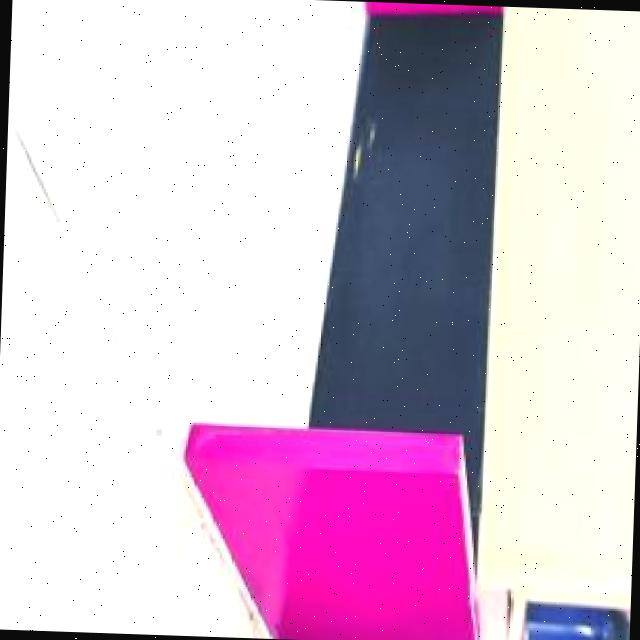xparking: (218, 430, 465, 640), (354, 1, 505, 19)
